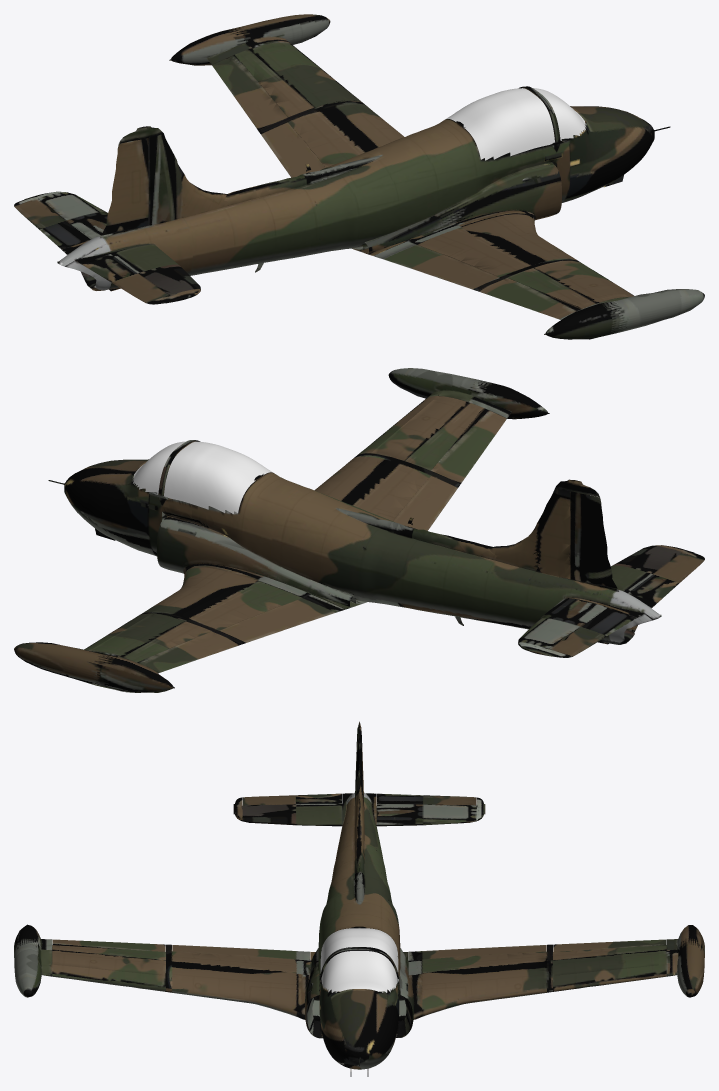
Rendered from fh_battle_attacker_t1.glb.
The picture shows the model from 3 angles, top to bottom: view 1: azimuth 30°, elevation 25°; view 2: azimuth 150°, elevation 25°; view 3: azimuth 270°, elevation 25°; orthographic projection. The views are drawn at different scales.
Parts seen in each view (by area): view 1: fh_battle_attacker_t1; view 2: fh_battle_attacker_t1; view 3: fh_battle_attacker_t1.
Boxes of the visible parts, x1,y1,x2,y2 form: fh_battle_attacker_t1: (14, 14, 704, 339); fh_battle_attacker_t1: (14, 368, 704, 692); fh_battle_attacker_t1: (14, 721, 704, 1076).
Size of the model in its own units: 1 by 0.2699 by 1.1.
2 materials, 1 textured.
